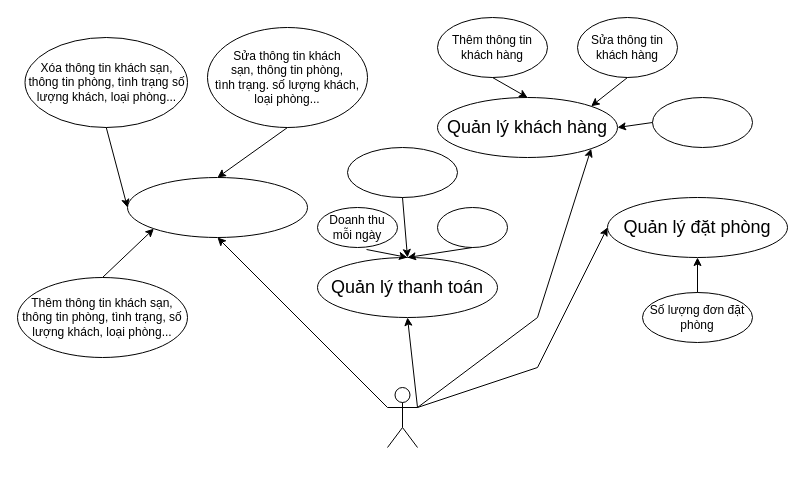
This 805x486 diagram has some shape labels left out. Each missing label, with the centre of its shape:
Hotel Owner: (402,417)
Quản lý thông tin khách sạn: (217,207)
Số tiền khách chi trả mỗi ngày: (402,172)
Tổng tiền phải chi ra: (472,227)
Xóa thông tin khách hàng: (702,122)
